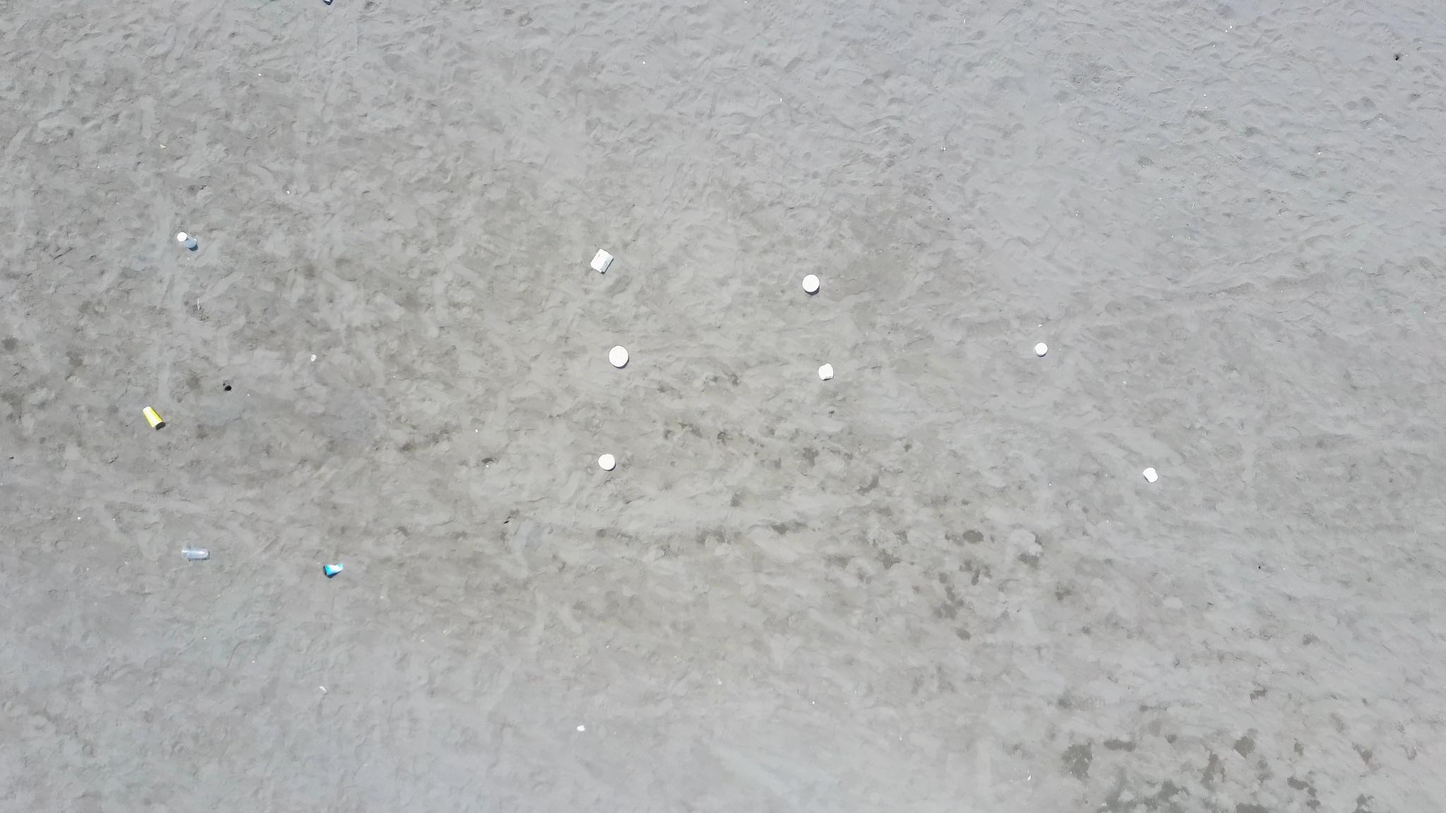Garbage: (590, 248, 613, 272), (143, 408, 165, 429), (176, 231, 198, 251), (609, 346, 628, 368), (182, 546, 210, 560), (802, 274, 819, 294), (597, 454, 615, 469), (323, 563, 342, 577), (1142, 466, 1156, 483), (818, 364, 833, 379), (1034, 342, 1048, 356), (318, 685, 326, 694), (576, 724, 585, 731), (310, 354, 317, 361), (322, 0, 331, 5)
